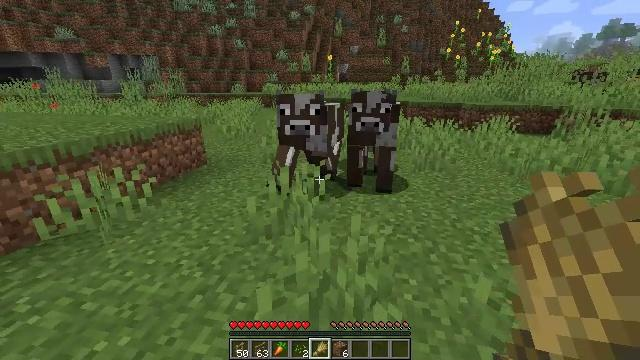cow: (274, 92, 344, 185), (347, 90, 399, 190), (573, 70, 610, 89)
